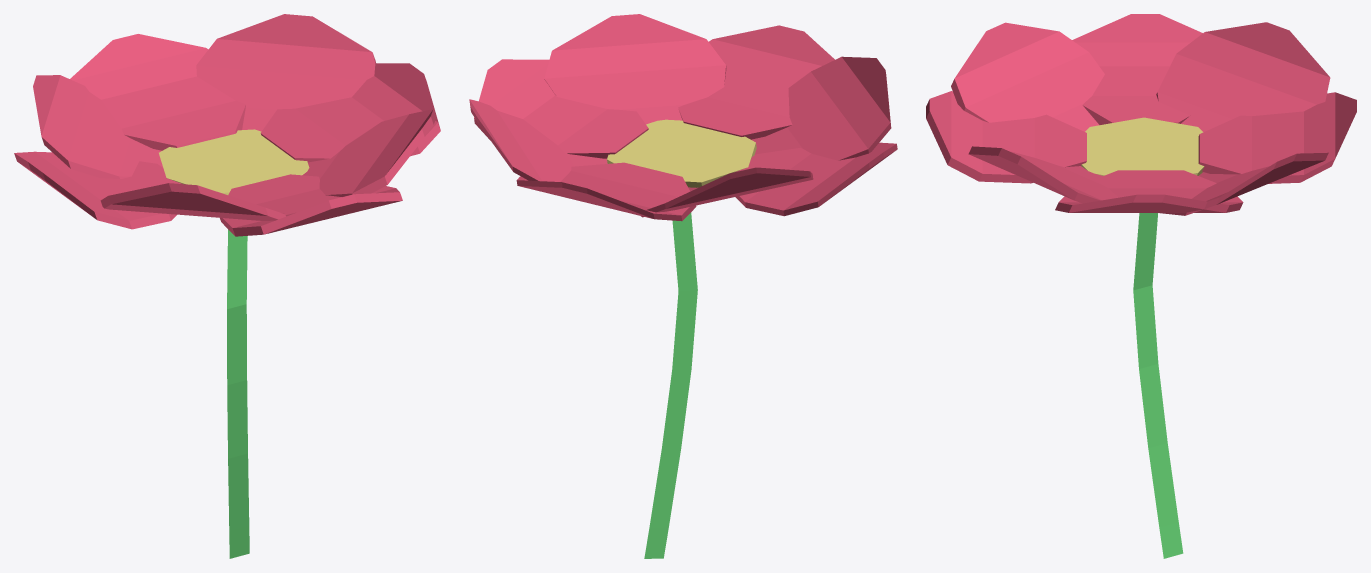
File: flower2.fbx
3 views of the same model, side by side, from view 1: azimuth 30°, elevation 25°; view 2: azimuth 150°, elevation 25°; view 3: azimuth 270°, elevation 25° (orthographic). The views are drawn at different scales.
Visible parts, largest first — view 1: Circle.001; view 2: Circle.001; view 3: Circle.001.
Boxes of the visible parts, left/top/right/bottom form: Circle.001: left=14, top=14, right=440, bottom=558; Circle.001: left=469, top=14, right=897, bottom=558; Circle.001: left=926, top=14, right=1356, bottom=558.
Size of the model in its own units: 204 by 239 by 202.
